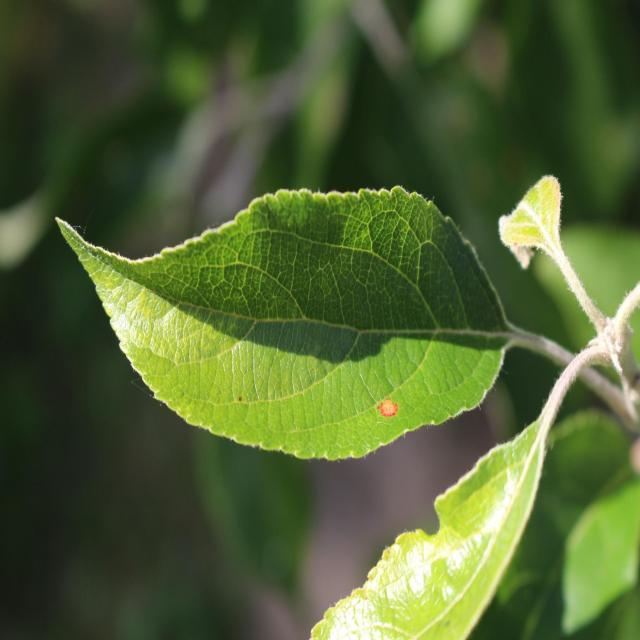Rust: (368, 395, 402, 430)
